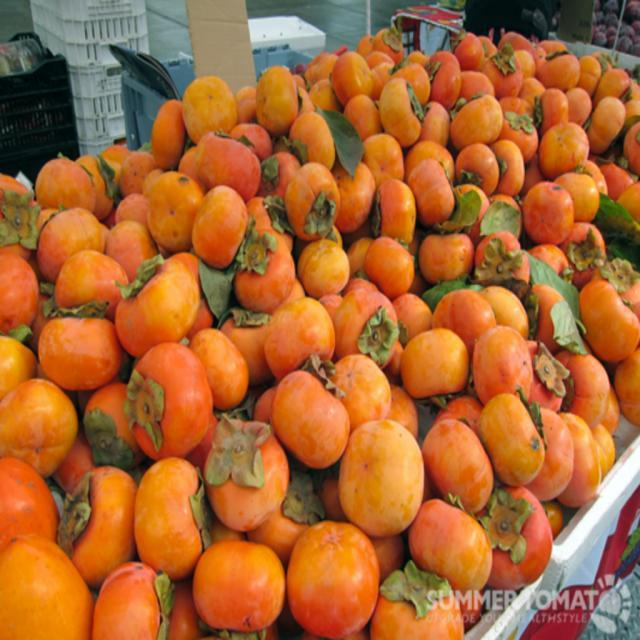Orange: (129, 456, 211, 588), (291, 519, 375, 639), (3, 530, 94, 639), (62, 463, 144, 583), (190, 530, 289, 628), (409, 492, 499, 591), (203, 424, 283, 530), (134, 345, 210, 453), (346, 427, 422, 529), (369, 565, 465, 639), (477, 485, 547, 583), (92, 559, 172, 639), (40, 309, 124, 383), (274, 374, 348, 456), (146, 163, 212, 251), (265, 293, 327, 383), (0, 453, 58, 547), (483, 321, 541, 409), (58, 245, 127, 314), (430, 424, 489, 504), (184, 69, 246, 145), (488, 392, 538, 484), (578, 279, 639, 351), (189, 179, 245, 255), (338, 284, 398, 354), (200, 336, 256, 410), (411, 319, 461, 399), (0, 224, 34, 333), (362, 238, 415, 304), (252, 61, 306, 125), (566, 349, 616, 418), (526, 181, 573, 251), (379, 79, 423, 151), (538, 407, 570, 503), (409, 152, 451, 221), (371, 181, 418, 242), (110, 213, 160, 269), (491, 136, 531, 205), (0, 328, 35, 406), (565, 410, 596, 495), (423, 233, 475, 279), (327, 51, 367, 107), (456, 90, 498, 140), (428, 44, 462, 98), (454, 143, 488, 195), (616, 339, 639, 414), (460, 66, 490, 104)
